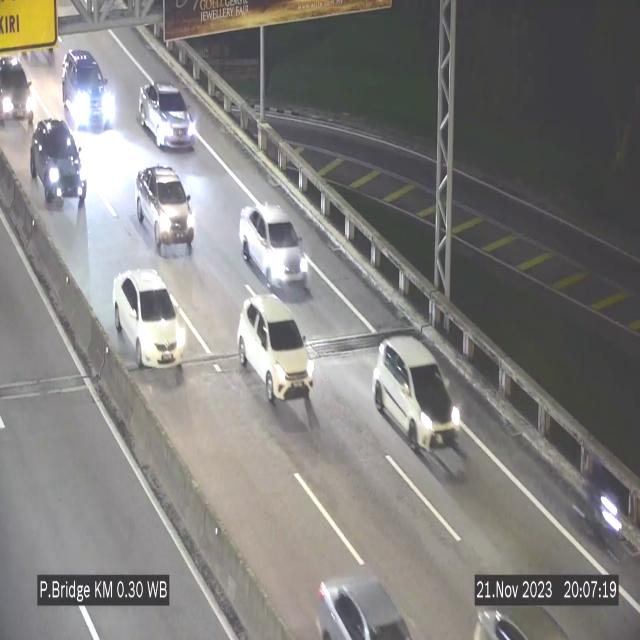Car: (365, 331, 463, 452), (109, 264, 184, 377), (238, 295, 312, 403), (308, 560, 406, 640), (239, 203, 309, 293), (28, 119, 90, 211), (136, 165, 194, 259), (61, 44, 113, 137), (138, 82, 196, 146), (0, 44, 42, 128)
Motorcycle: (574, 451, 620, 556)
